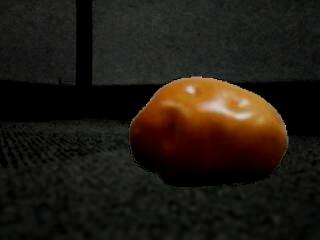Potato: (128, 76, 289, 188)
